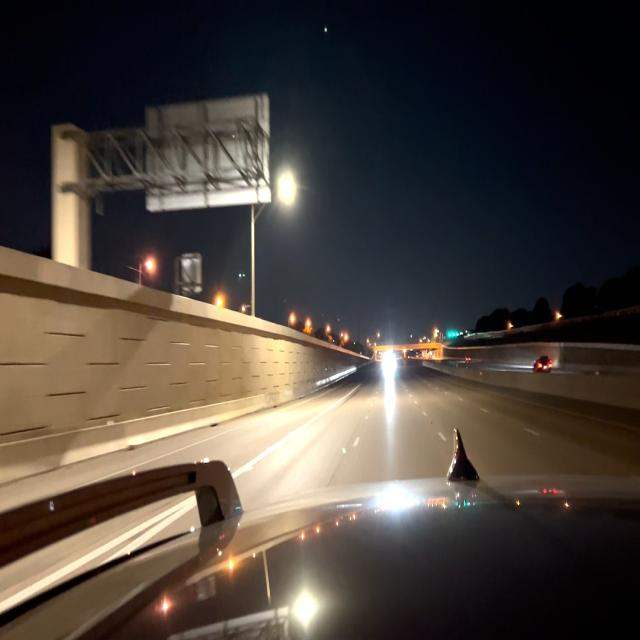back-of-sign: (142, 94, 271, 210), (182, 254, 202, 292)
